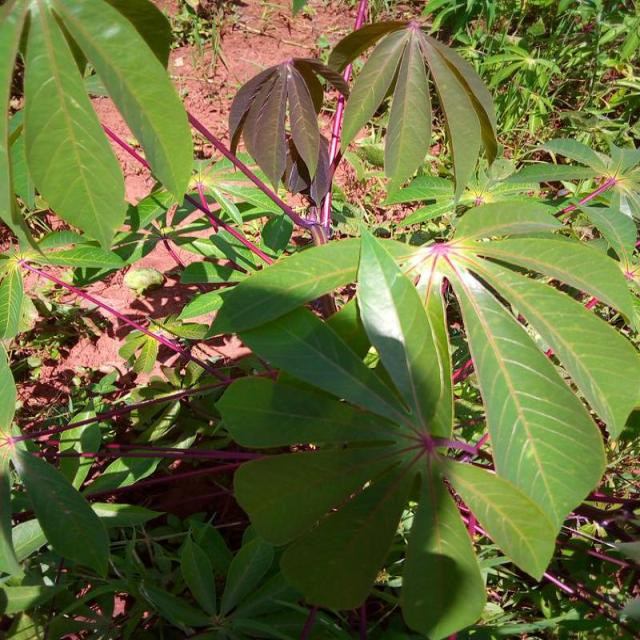cassava leaf: (336, 20, 498, 207)
